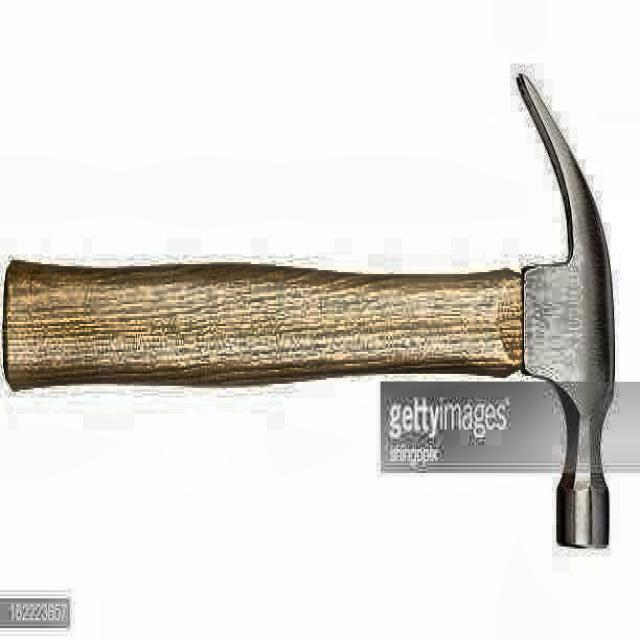hammer: (4, 74, 617, 557)
